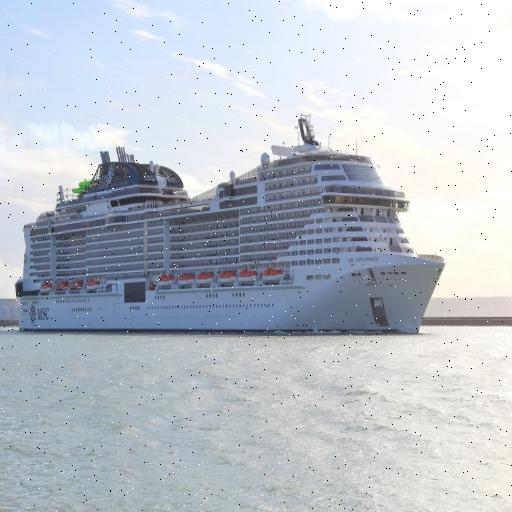cruises: (12, 112, 447, 345)
